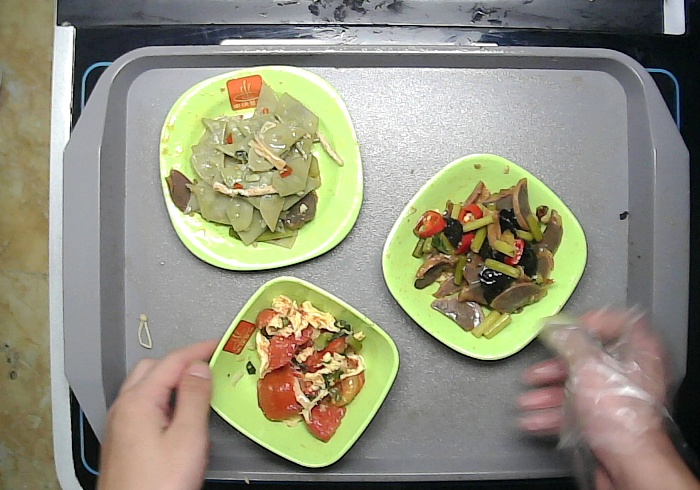SHKJ-Lv_Se_Cai_Die: (379, 152, 590, 363)
SHKJ-Lv_Se_Si_Fang_Cai_Die: (158, 63, 364, 271)
SHKJ-Lv_Se_Xiao_Fang_Die: (200, 273, 401, 468)
